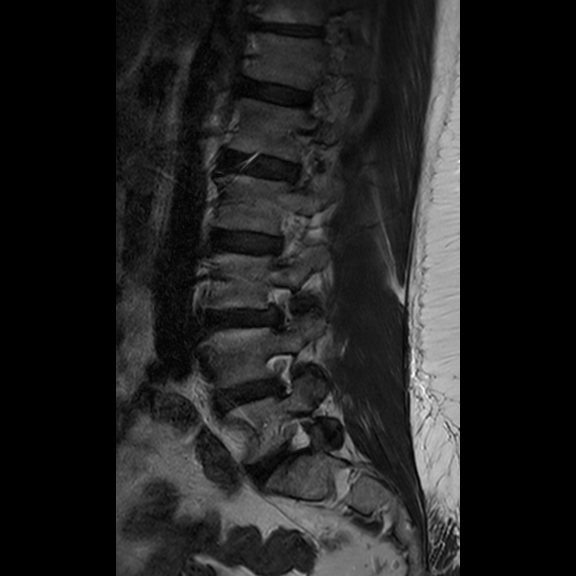RFS0: (251, 348, 309, 404)
